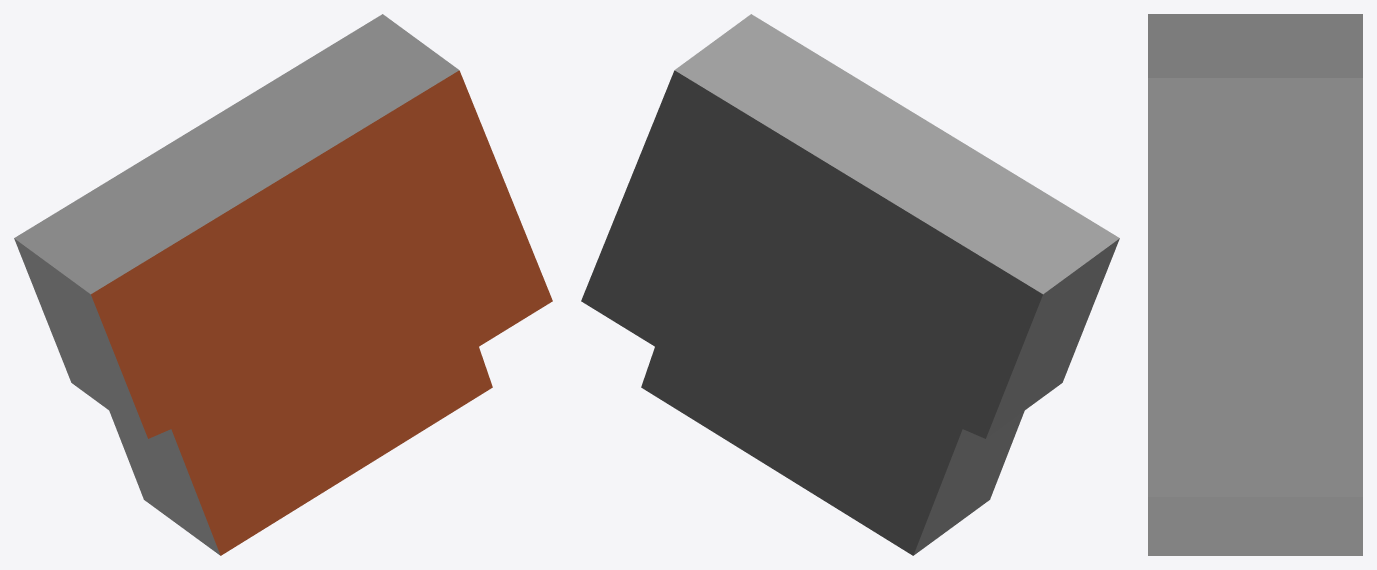
File: construction_4095_assumed_A_Casa_h6m.obj
3 views of the same model, side by side, from view 1: azimuth 30°, elevation 25°; view 2: azimuth 150°, elevation 25°; view 3: azimuth 270°, elevation 25° (orthographic). The views are drawn at different scales.
Visible parts, largest first — view 1: construction_4095_assumed_A_Casa; view 2: construction_4095_assumed_A_Casa; view 3: construction_4095_assumed_A_Casa.
Part boxes in pixels (<box>): construction_4095_assumed_A_Casa: <box>14,14,552,555</box>; construction_4095_assumed_A_Casa: <box>581,14,1119,555</box>; construction_4095_assumed_A_Casa: <box>1148,14,1362,555</box>.
Size of the model in its own units: 20.85 by 18.43 by 6.
